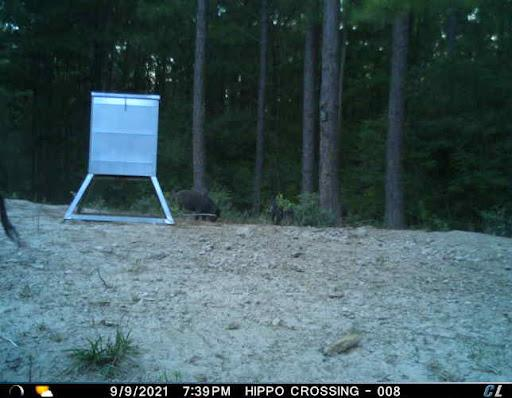Hog: (173, 192, 225, 226)
